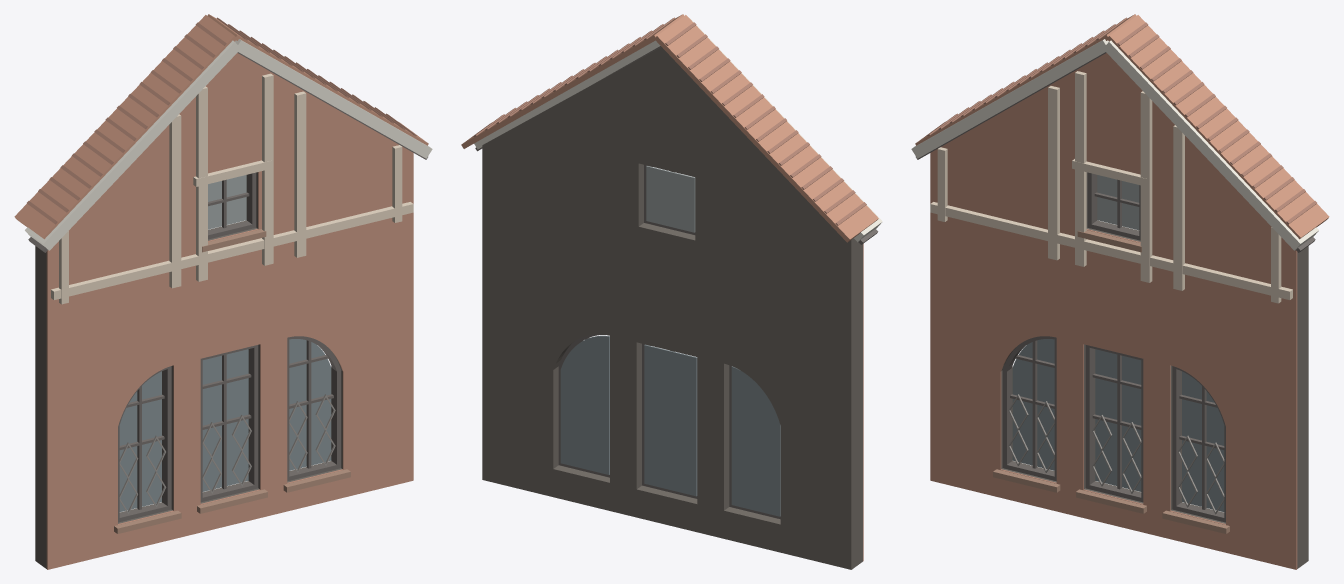
The model's file is jingan-sumitomo-staff-house-gable-web.glb.
3 renders of one model, left to right at view 1: azimuth 30°, elevation 25°; view 2: azimuth 150°, elevation 25°; view 3: azimuth 330°, elevation 25°, orthographic.
Parts seen in each view (by area): view 1: 司米托莫银行职员宿舍（培进中学6号楼）胶州路侧山墙三联窗; view 2: 司米托莫银行职员宿舍（培进中学6号楼）胶州路侧山墙三联窗; view 3: 司米托莫银行职员宿舍（培进中学6号楼）胶州路侧山墙三联窗.
Part boxes in pixels (left/top/right/bottom): 司米托莫银行职员宿舍（培进中学6号楼）胶州路侧山墙三联窗: left=14, top=14, right=432, bottom=569; 司米托莫银行职员宿舍（培进中学6号楼）胶州路侧山墙三联窗: left=461, top=14, right=882, bottom=569; 司米托莫银行职员宿舍（培进中学6号楼）胶州路侧山墙三联窗: left=911, top=14, right=1329, bottom=569.
Size of the model in its own units: 5.97 by 7.24 by 0.82.
